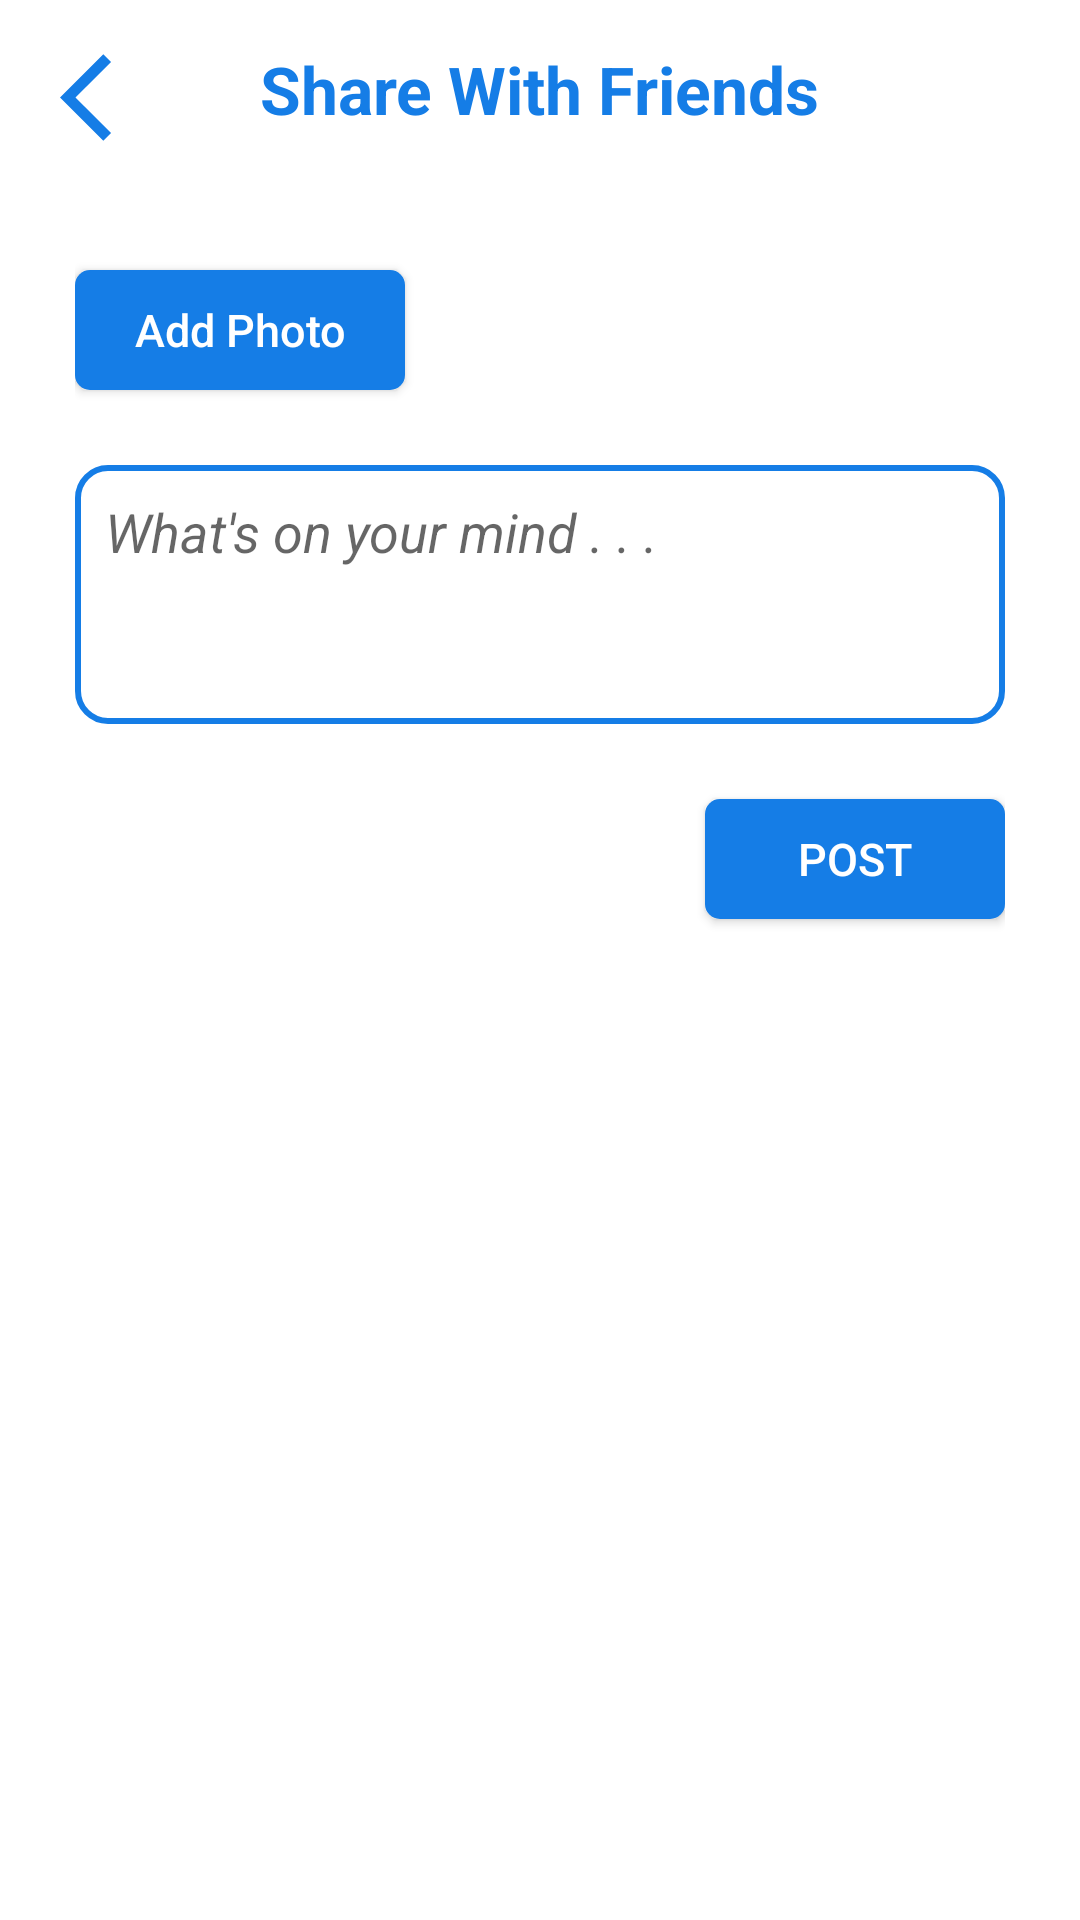

Icon bounding boxes for this 1080x1920 phone screenshot, format [x1=x1, y1=y1, x2=x2, y2=y2]:
back: [x1=60, y1=54, x2=111, y2=141]
